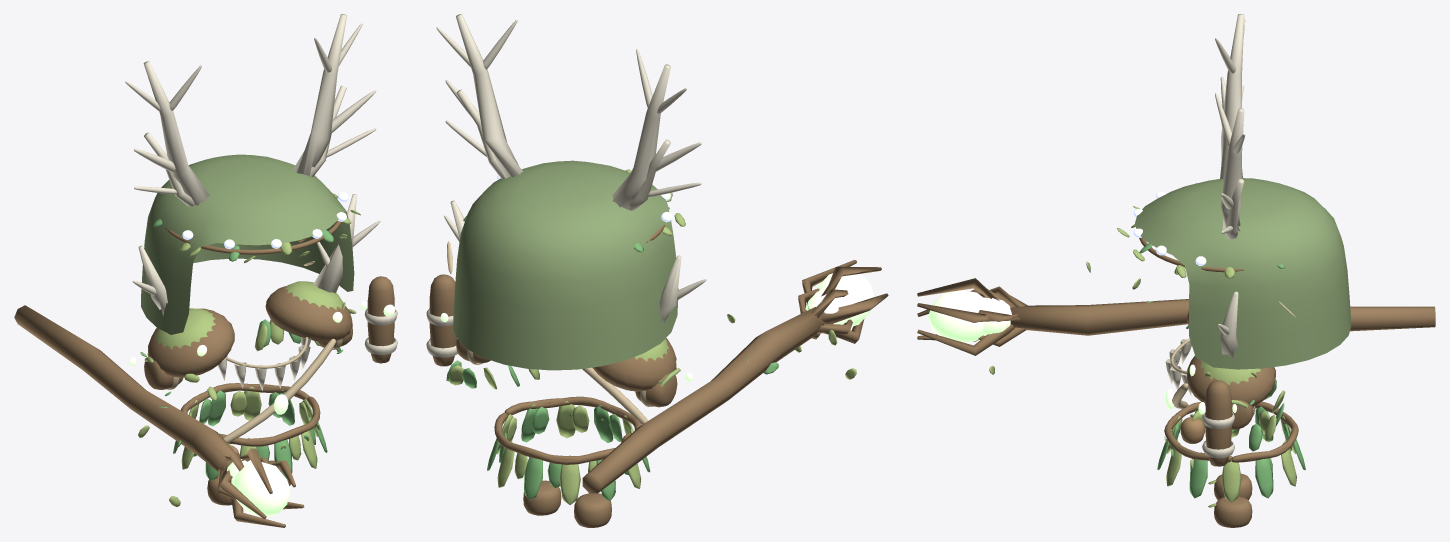
File: Gear_Druid.glb
3 views of the same model, side by side, from view 1: azimuth 30°, elevation 25°; view 2: azimuth 150°, elevation 25°; view 3: azimuth 270°, elevation 25° (orthographic). The views are drawn at different scales.
Parts seen in each view (by area): view 1: D_Head_Hood, D_Shoulders_Antler, D_Weapon_ElderStaff, D_Head_Antlers, D_Weapon_SeedStaff, D_Legs_LeafKilt_hips, D_Offhand_Totem, D_Head_BoneWreath, D_Feet_LeafSkirt, D_Chest_FangMantle_chest, D_Waist_VineBelt_spine, D_Chest_FangMantle_spine (+5 smaller); view 2: D_Head_Hood, D_Weapon_ElderStaff, D_Head_Antlers, D_Weapon_SeedStaff, D_Legs_LeafKilt_hips, D_Shoulders_Antler, D_Feet_LeafSkirt, D_Offhand_Totem, D_Head_BoneWreath, D_Waist_VineBelt_spine, D_Legs_LeafKilt_lowerleg_r, D_Legs_LeafKilt_lowerleg_l (+2 smaller); view 3: D_Head_Hood, D_Weapon_ElderStaff, D_Head_Antlers, D_Weapon_SeedStaff, D_Shoulders_Antler, D_Legs_LeafKilt_hips, D_Offhand_Totem, D_Waist_VineBelt_spine, D_Chest_FangMantle_chest, D_Legs_LeafKilt_lowerleg_l, D_Feet_LeafSkirt, D_Head_BoneWreath (+1 smaller).
Part boxes in pixels (bbox=[...]): D_Head_Hood: bbox=[141, 154, 360, 334]; D_Shoulders_Antler: bbox=[132, 194, 380, 377]; D_Weapon_ElderStaff: bbox=[16, 305, 304, 527]; D_Head_Antlers: bbox=[125, 14, 376, 254]; D_Weapon_SeedStaff: bbox=[14, 310, 268, 499]; D_Legs_LeafKilt_hips: bbox=[173, 386, 327, 480]; D_Offhand_Totem: bbox=[364, 276, 397, 363]; D_Head_BoneWreath: bbox=[134, 85, 375, 260]; D_Feet_LeafSkirt: bbox=[187, 384, 318, 462]; D_Chest_FangMantle_chest: bbox=[218, 237, 340, 390]; D_Waist_VineBelt_spine: bbox=[180, 383, 320, 449]; D_Chest_FangMantle_spine: bbox=[223, 338, 336, 442]; D_Head_Hood: bbox=[453, 160, 685, 370]; D_Weapon_ElderStaff: bbox=[582, 260, 888, 492]; D_Head_Antlers: bbox=[436, 14, 701, 252]; D_Weapon_SeedStaff: bbox=[583, 288, 852, 493]; D_Legs_LeafKilt_hips: bbox=[487, 401, 650, 504]; D_Shoulders_Antler: bbox=[444, 200, 706, 391]; D_Feet_LeafSkirt: bbox=[497, 398, 633, 488]; D_Offhand_Totem: bbox=[426, 274, 457, 366]; D_Head_BoneWreath: bbox=[445, 89, 701, 251]; D_Waist_VineBelt_spine: bbox=[494, 396, 641, 464]; D_Legs_LeafKilt_lowerleg_r: bbox=[574, 493, 611, 527]; D_Legs_LeafKilt_lowerleg_l: bbox=[523, 480, 561, 515]; D_Head_Hood: bbox=[1117, 178, 1351, 369]; D_Weapon_ElderStaff: bbox=[917, 261, 1435, 374]; D_Head_Antlers: bbox=[1132, 14, 1245, 271]; D_Weapon_SeedStaff: bbox=[978, 286, 1435, 346]; D_Shoulders_Antler: bbox=[1187, 291, 1275, 406]; D_Legs_LeafKilt_hips: bbox=[1157, 406, 1305, 502]; D_Offhand_Totem: bbox=[1198, 380, 1234, 466]; D_Waist_VineBelt_spine: bbox=[1164, 401, 1298, 468]; D_Chest_FangMantle_chest: bbox=[1165, 301, 1296, 451]; D_Legs_LeafKilt_lowerleg_l: bbox=[1208, 496, 1252, 527]; D_Feet_LeafSkirt: bbox=[1166, 407, 1294, 471]; D_Head_BoneWreath: bbox=[1132, 85, 1284, 273].
Size of the model in its own units: 2.28 by 3.08 by 3.21.
